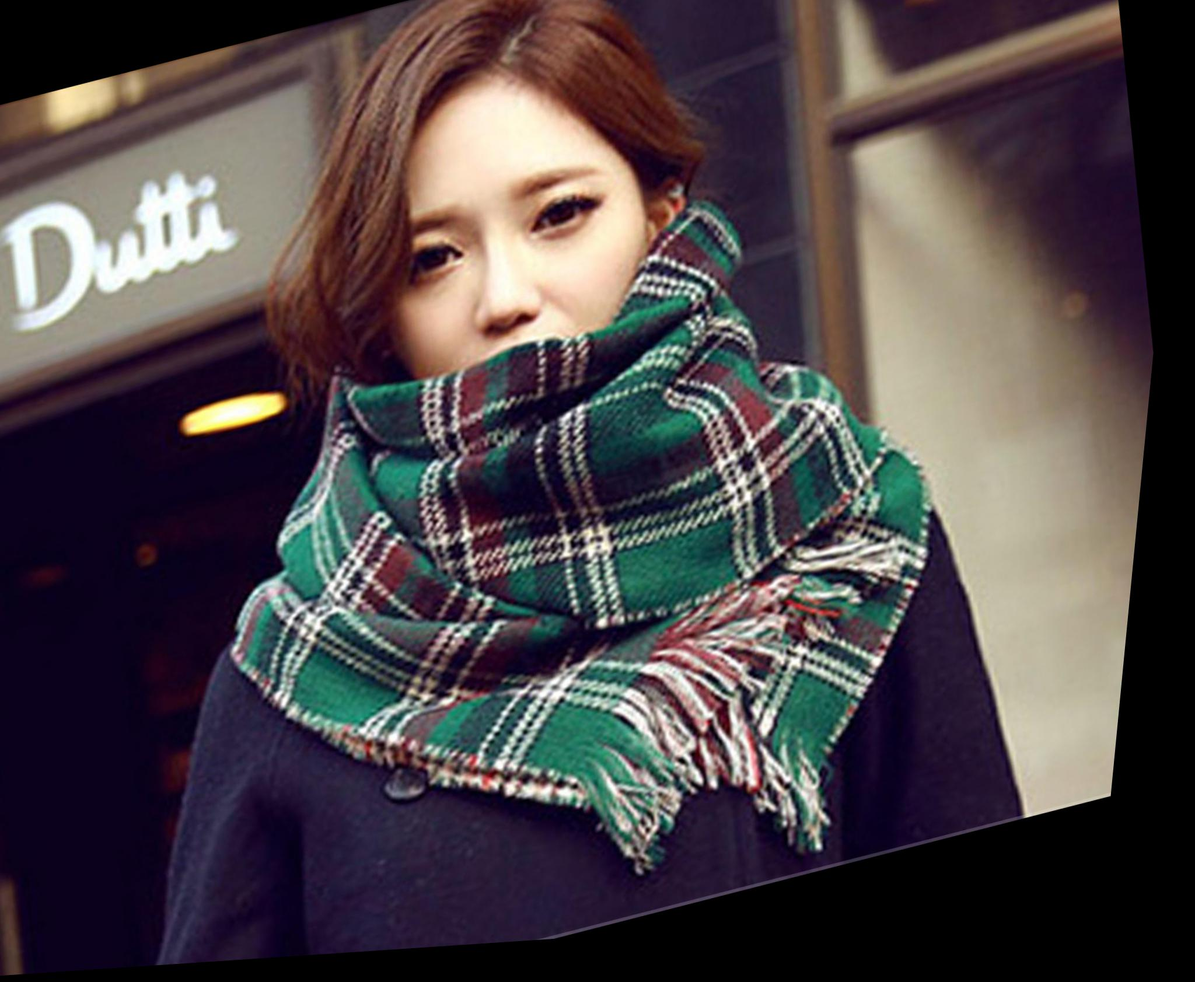WRONG: (350, 149, 683, 474)
